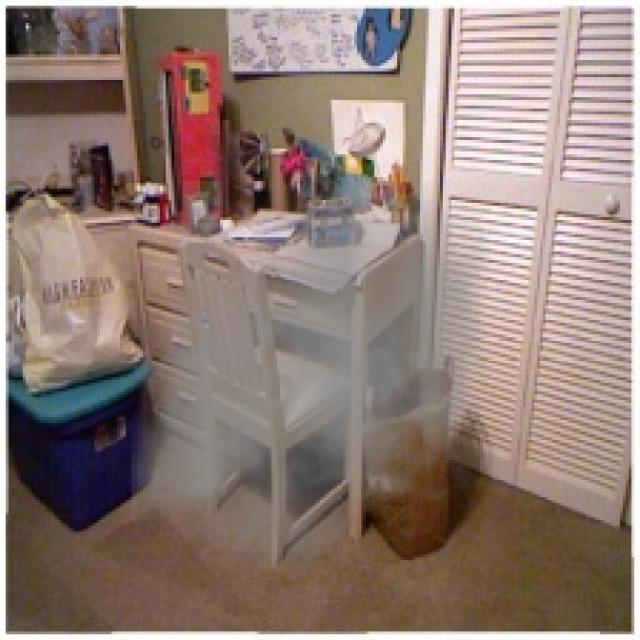smoke: (132, 180, 492, 591)
